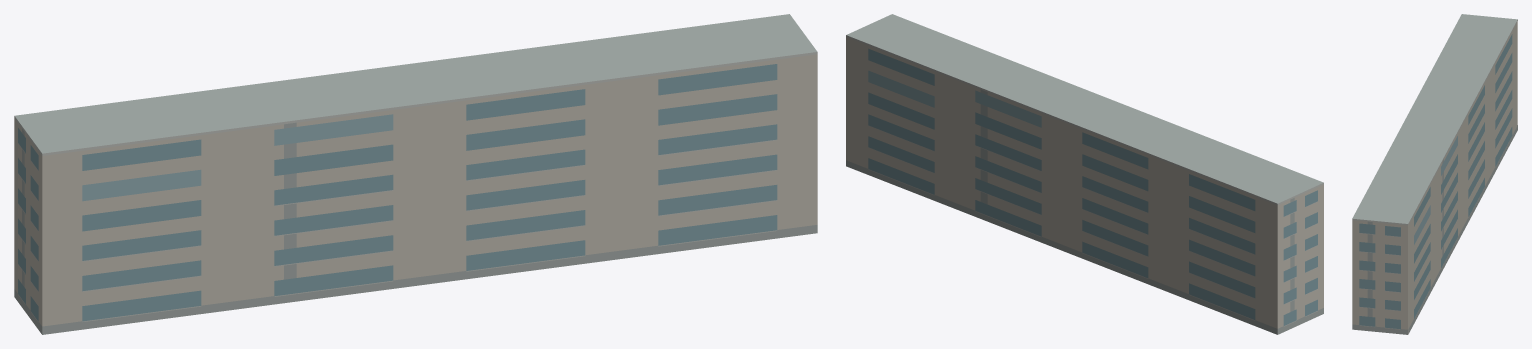
Rendered from residential-61dd3454-6fba-46e9-a303-1e79b22169f9.glb.
3 renders of one model, left to right at view 1: azimuth 30°, elevation 25°; view 2: azimuth 150°, elevation 25°; view 3: azimuth 270°, elevation 25°, orthographic. The views are drawn at different scales.
Visible parts, largest first — view 1: residential-61dd3454-6fba-46e9-a303-1e79b22169f9.tmp; view 2: residential-61dd3454-6fba-46e9-a303-1e79b22169f9.tmp; view 3: residential-61dd3454-6fba-46e9-a303-1e79b22169f9.tmp.
Boxes of the visible parts, x1,y1,x2,y2 form: residential-61dd3454-6fba-46e9-a303-1e79b22169f9.tmp: [14, 14, 817, 334]; residential-61dd3454-6fba-46e9-a303-1e79b22169f9.tmp: [846, 14, 1323, 334]; residential-61dd3454-6fba-46e9-a303-1e79b22169f9.tmp: [1352, 14, 1517, 334].
Bounding box in the file's own units: 74.34 × 18.3 × 24.78.
